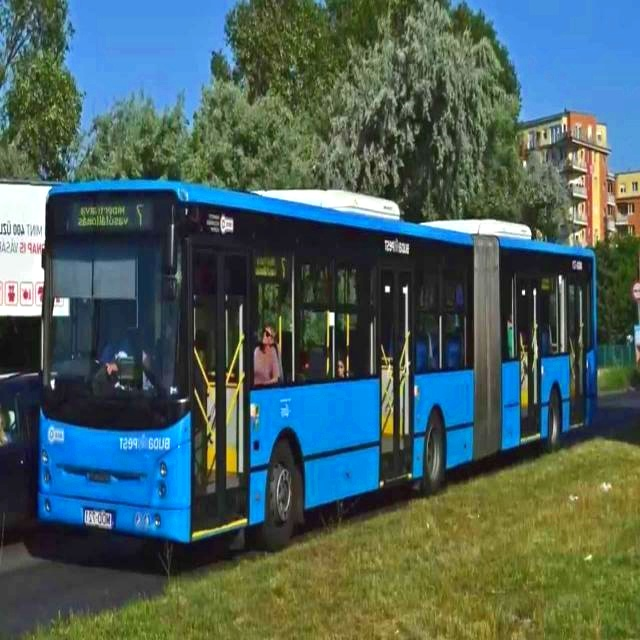bus: (16, 143, 621, 591)
